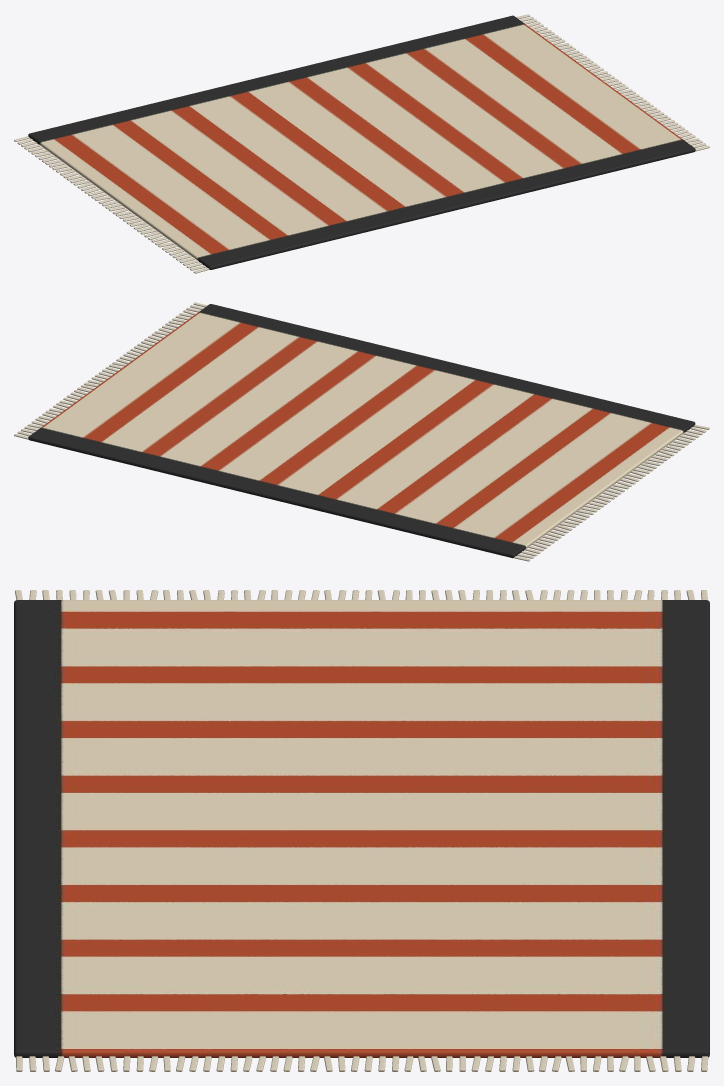
Rendered from rug.glb.
The picture shows the model from 3 angles, top to bottom: view 1: azimuth 30°, elevation 25°; view 2: azimuth 150°, elevation 25°; view 3: azimuth 270°, elevation 25°; orthographic projection. The views are drawn at different scales.
Visible parts, largest first — view 1: Cube; view 2: Cube; view 3: Cube.
Boxes of the visible parts, x1,y1,x2,y2 form: Cube: [14, 14, 709, 273]; Cube: [14, 302, 709, 561]; Cube: [14, 590, 709, 1071].
Bounding box in the file's own units: 2.12 × 0.016 × 1.3.
1 material, 1 textured.
